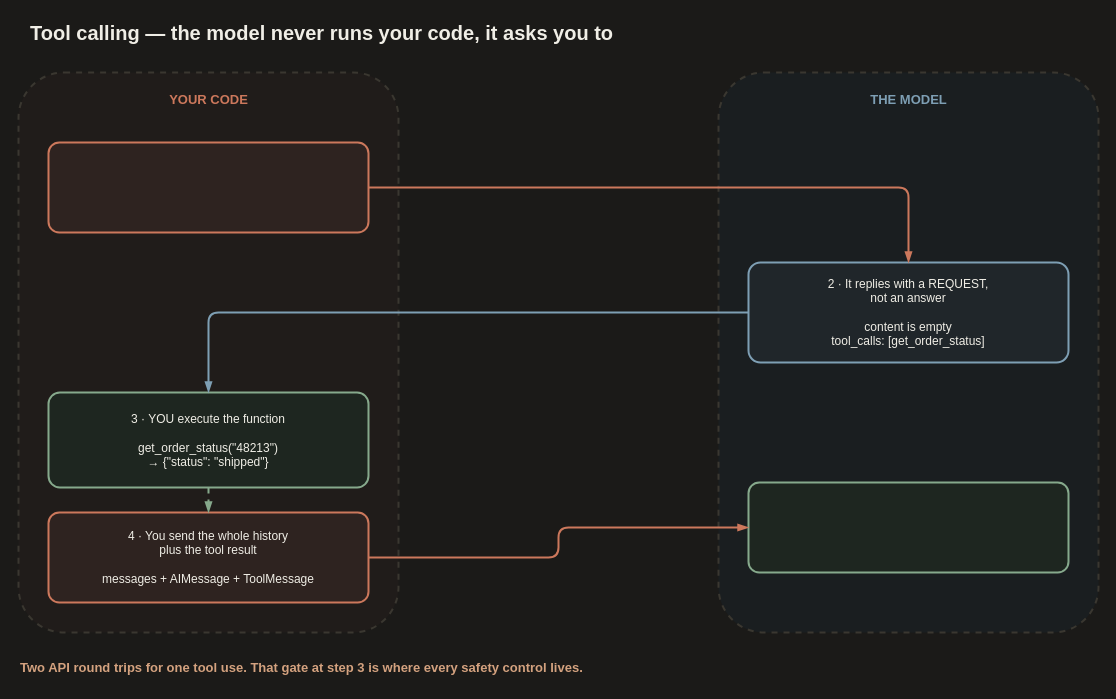
Image size: 1116x699. Some labels were removed from this diagram. Here are the shapes that lost their labels. From the top down, the box of each, then its label:
(47, 141, 369, 233): 1 · You send the question AND the menu of tools model.bind_tools([...])
(747, 481, 1069, 573): 5 · Now it answers, grounded in real data "Your order 48213 has shipped."
